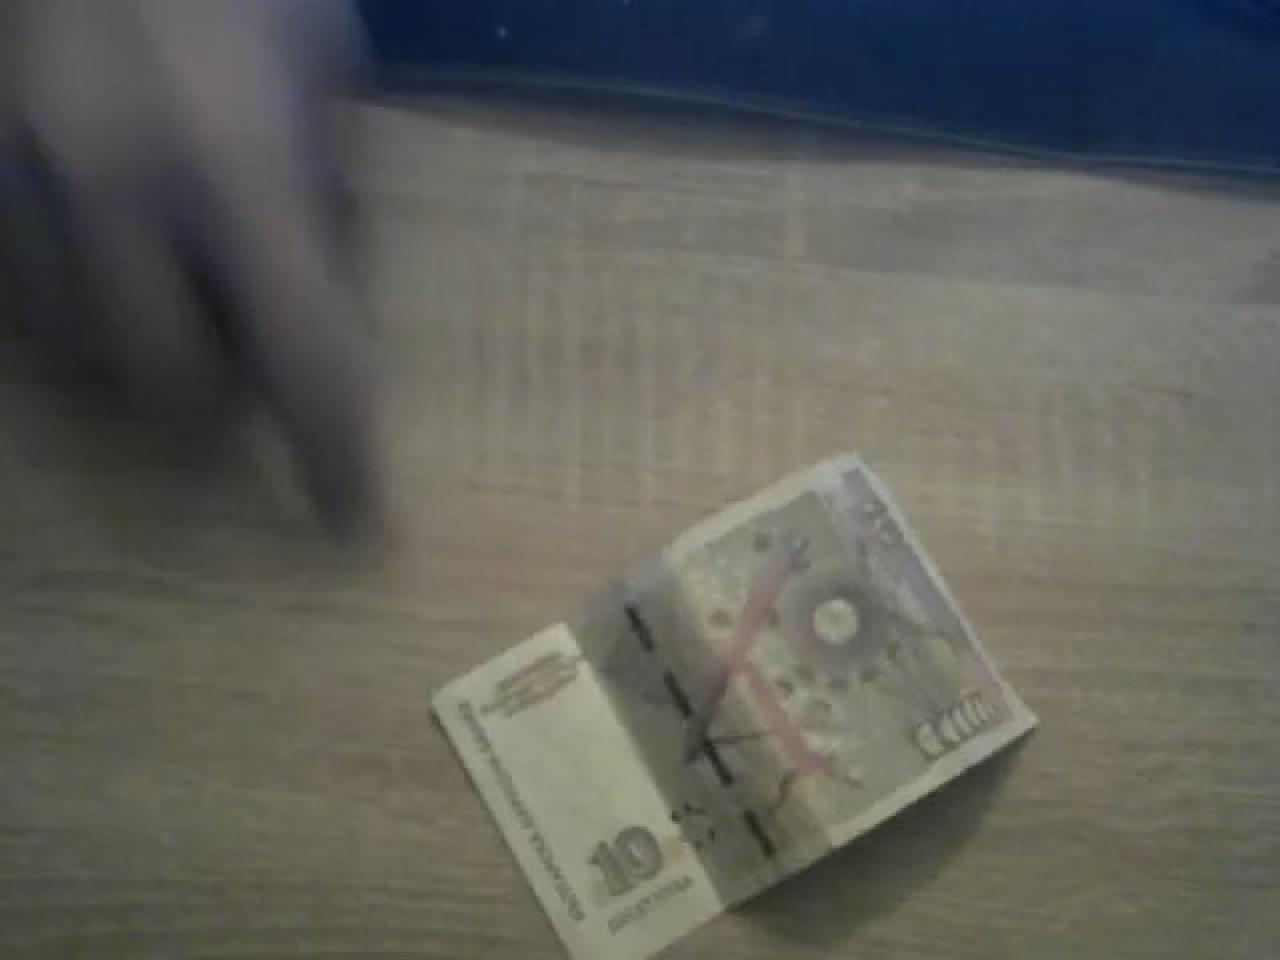10leva: (432, 454, 1040, 960)
